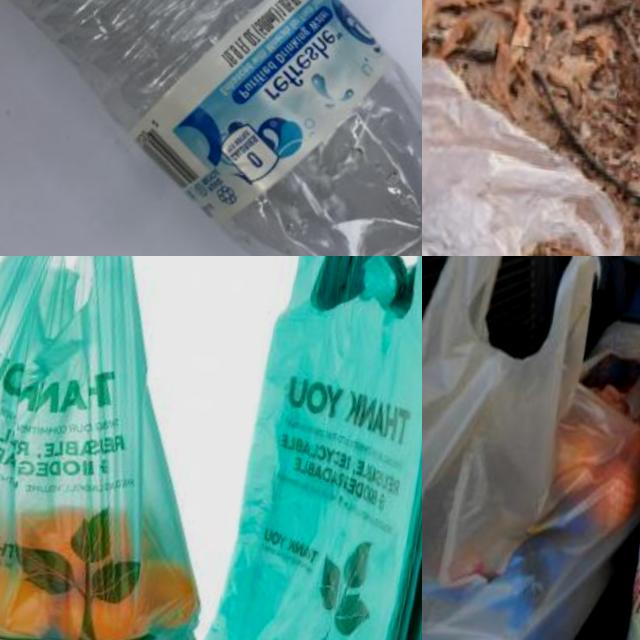garrafa plástica: (0, 0, 422, 256)
sacola plástica: (0, 256, 254, 640), (169, 256, 422, 640), (422, 256, 640, 640), (422, 4, 640, 256), (584, 256, 640, 640)
